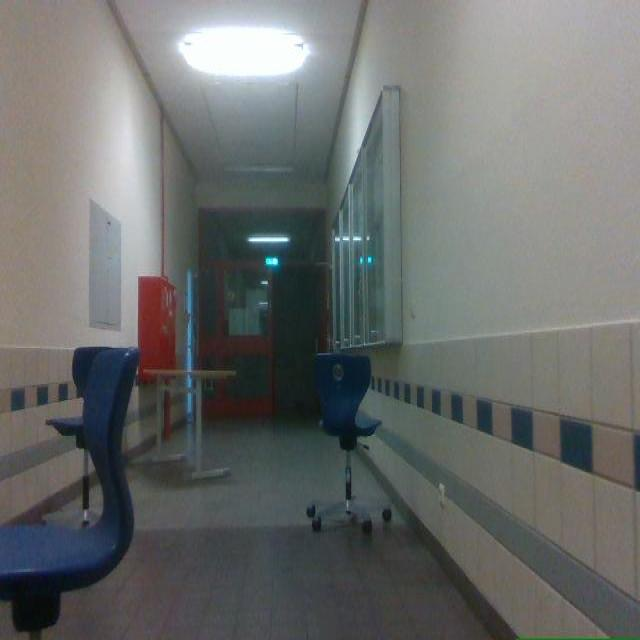objects: (0, 348, 138, 639), (306, 352, 381, 533), (47, 417, 88, 525), (72, 347, 109, 396)
